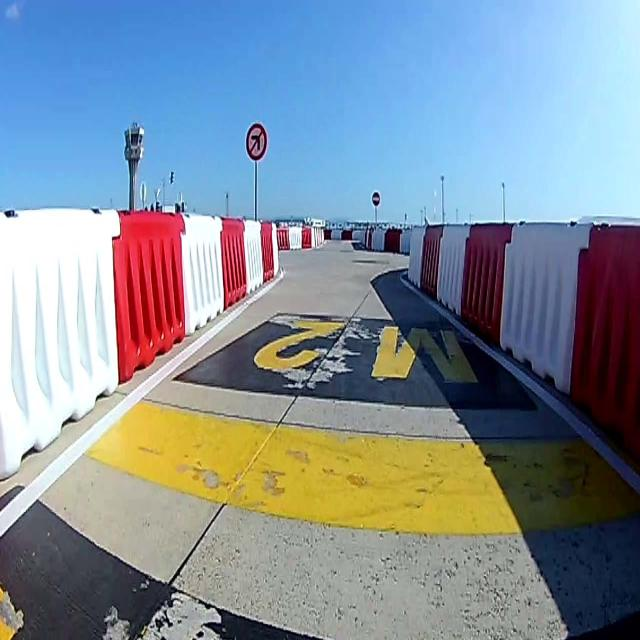soladonulmez: (247, 124, 267, 159)
